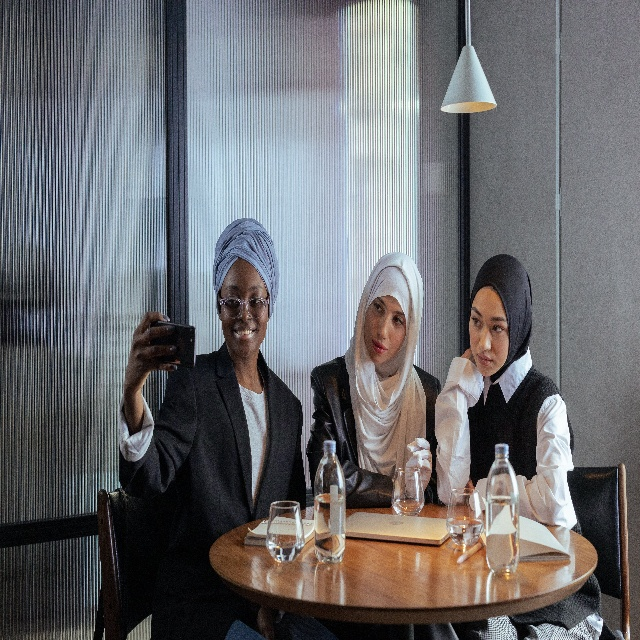Gafas: (216, 292, 271, 319)
Guantes: (400, 436, 432, 498)
Sin_guantes: (122, 312, 178, 385)
